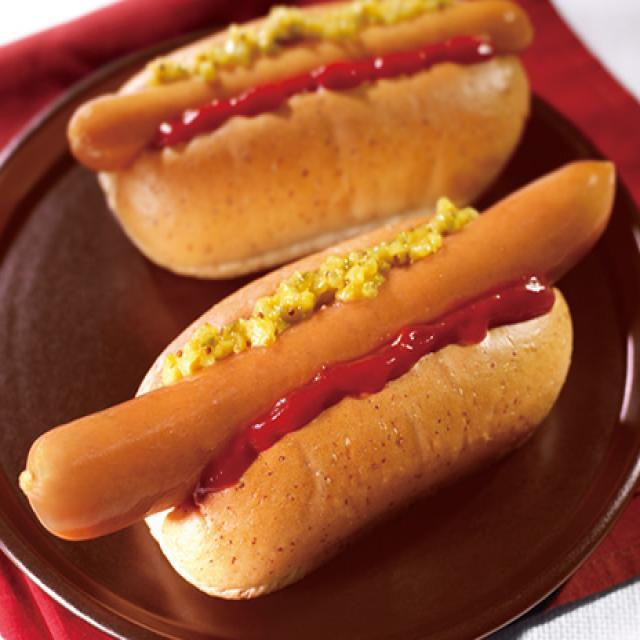Hot Dog: (34, 243, 603, 581), (59, 14, 552, 216)
